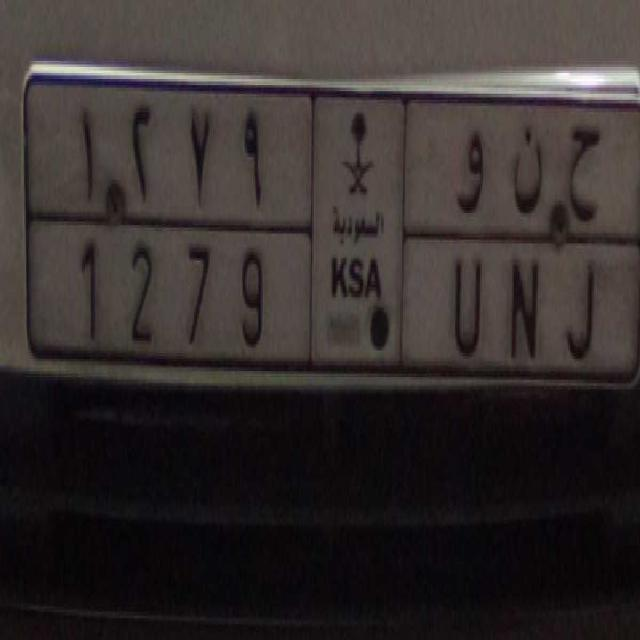license_plate: (45, 217, 636, 422)
